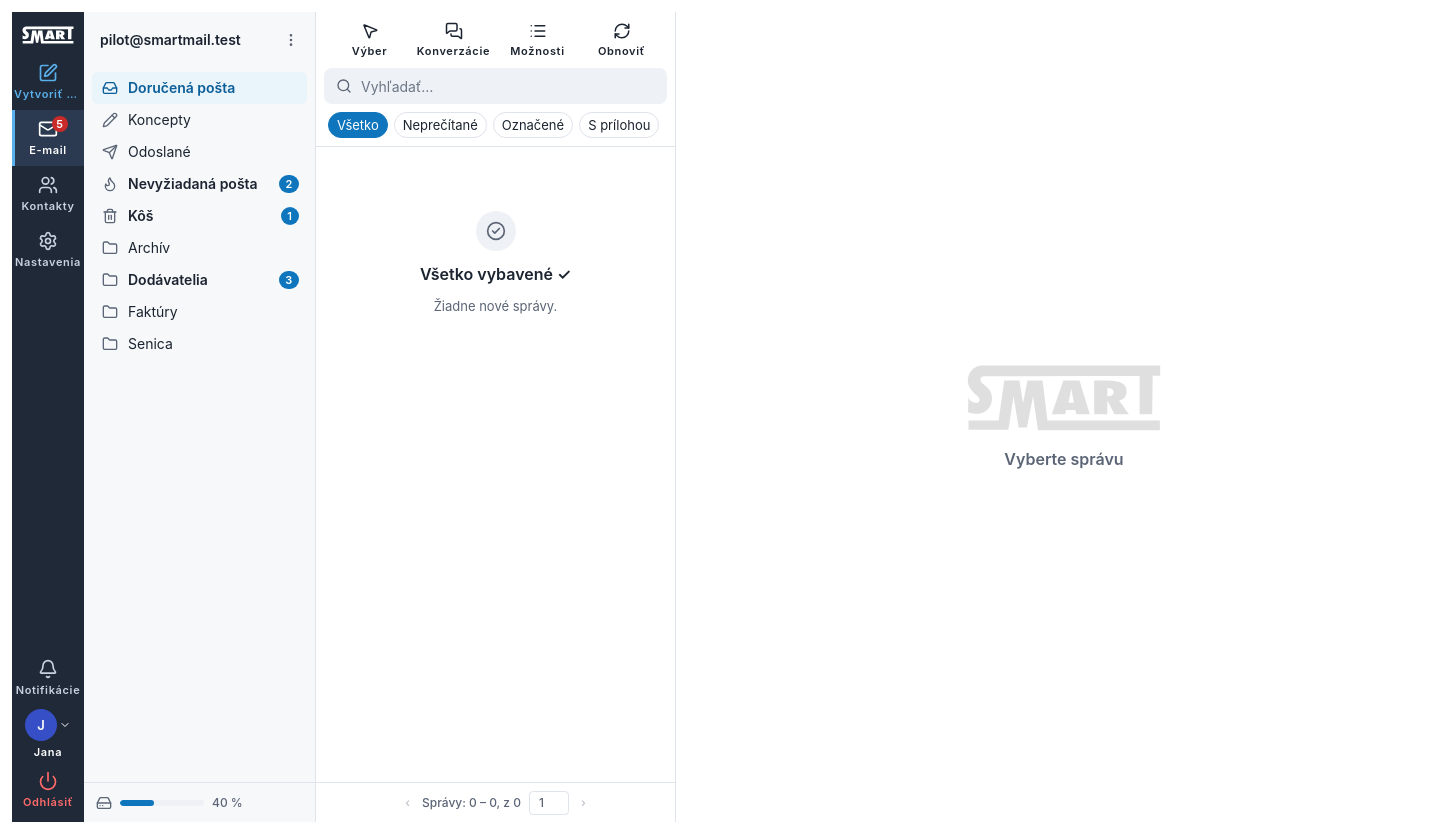
W2 shell and folder column (1c) › W2 empty folder and empty inbox states
This screenshot has width=1452, height=822.
Expected: the text "Všetko vybavené ✓" is shown, top-left (420, 263), bottom-right (571, 285)
Click the link "Senica".
click(137, 344)  # box top-left (102, 335), bottom-right (173, 352)
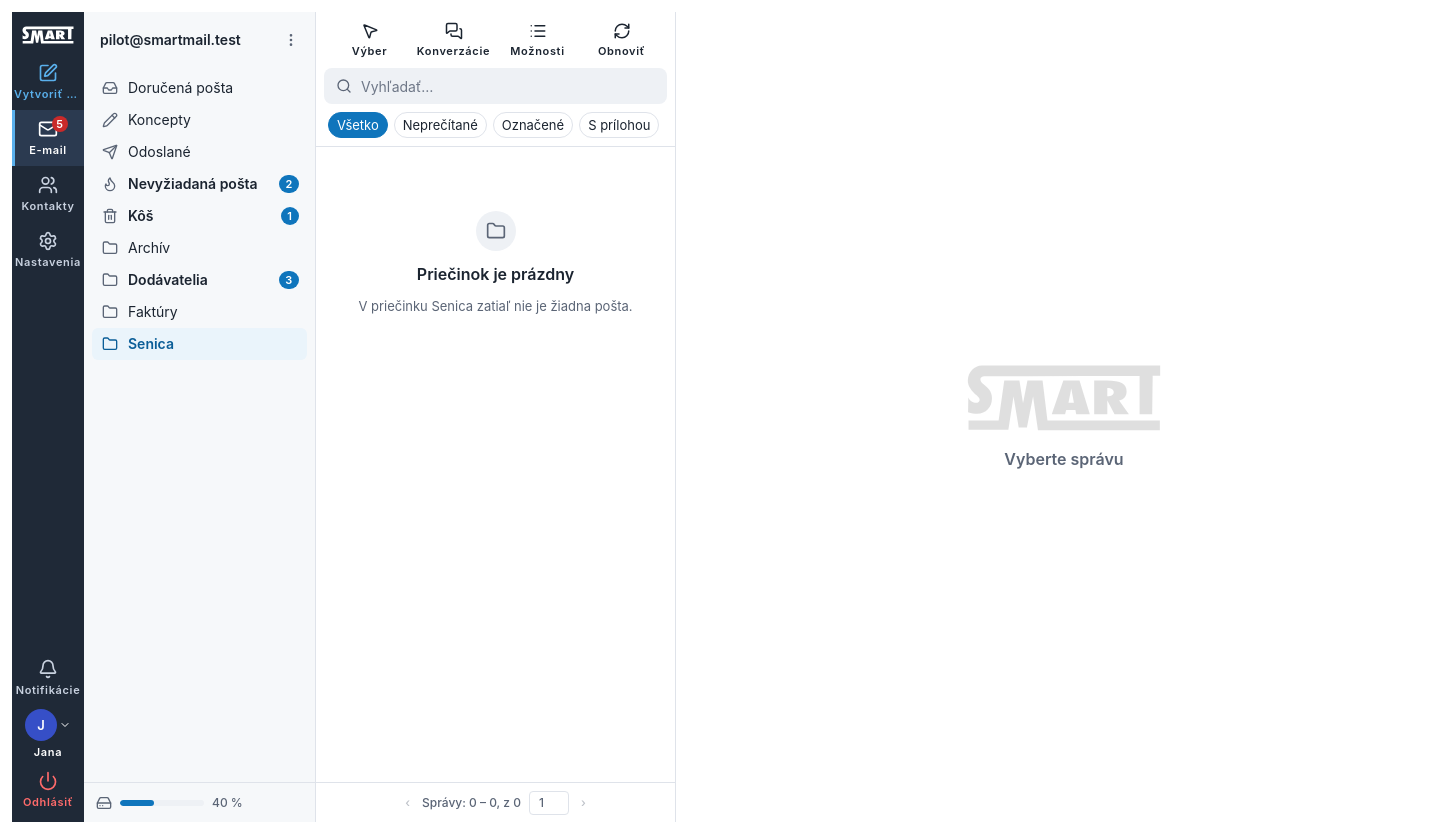
Expected: the text "Správy: 0 – 0, z 0" is shown, top-left (422, 794), bottom-right (521, 810)
Expected: the text "Priečinok je prázdny" is shown, top-left (417, 263), bottom-right (574, 285)
